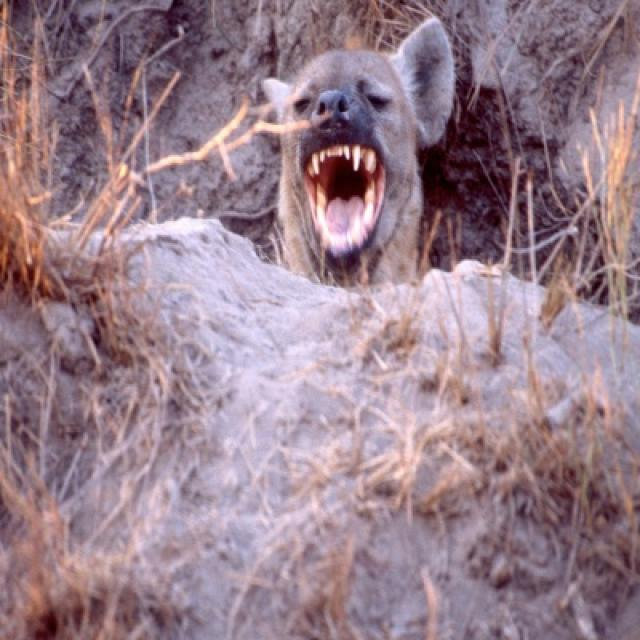hyena: (245, 18, 456, 288)
